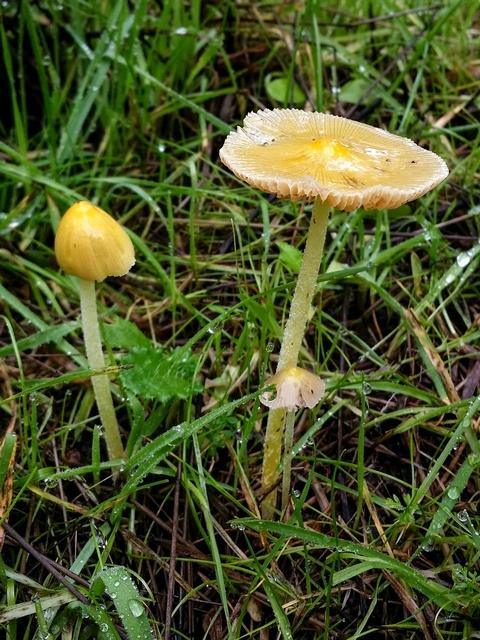Edible Mushroom: (218, 105, 449, 520), (53, 199, 136, 483)
